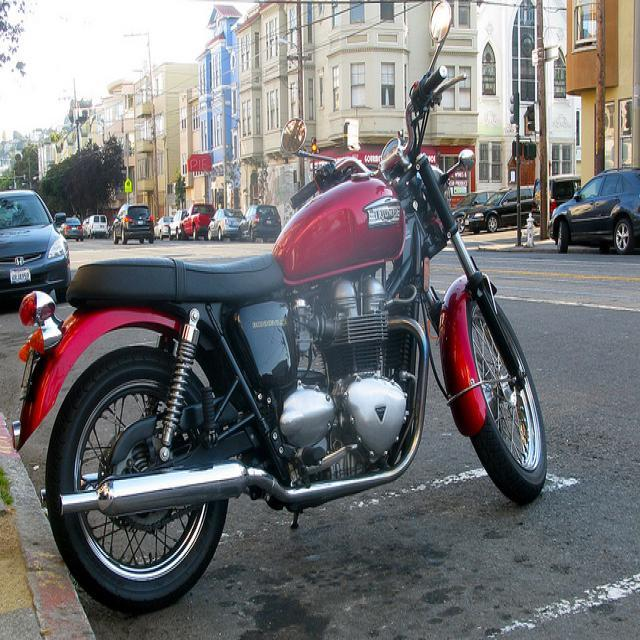fire_hydrant: (524, 212, 537, 245)
